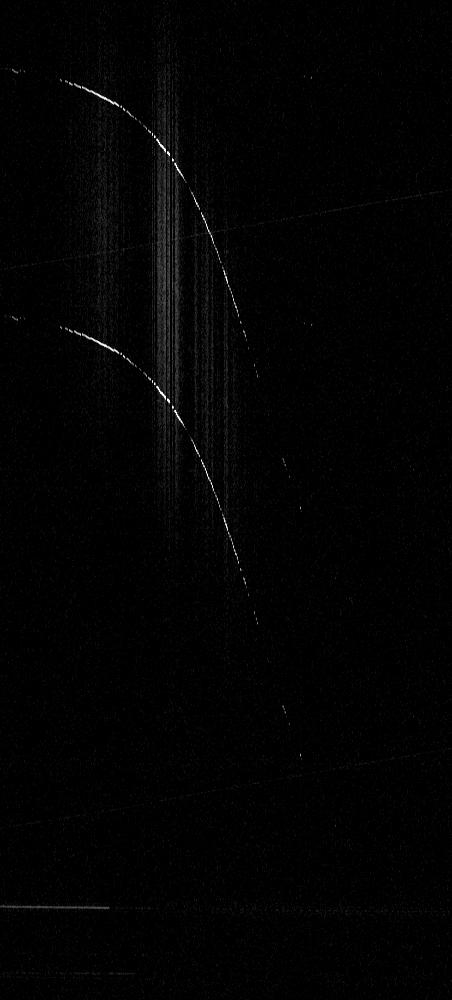signal: (0, 0, 451, 999)
